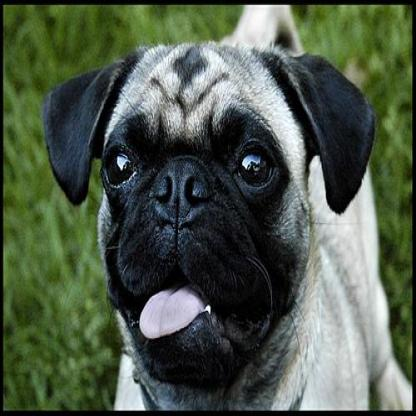pug: (42, 38, 414, 414)
